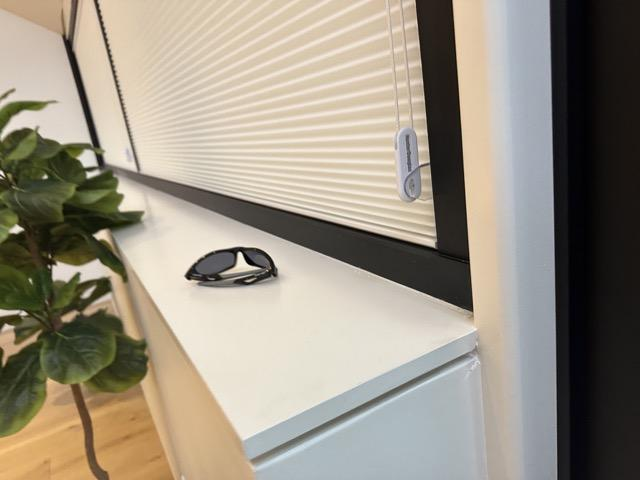Sunglasses: (185, 245, 279, 287)
